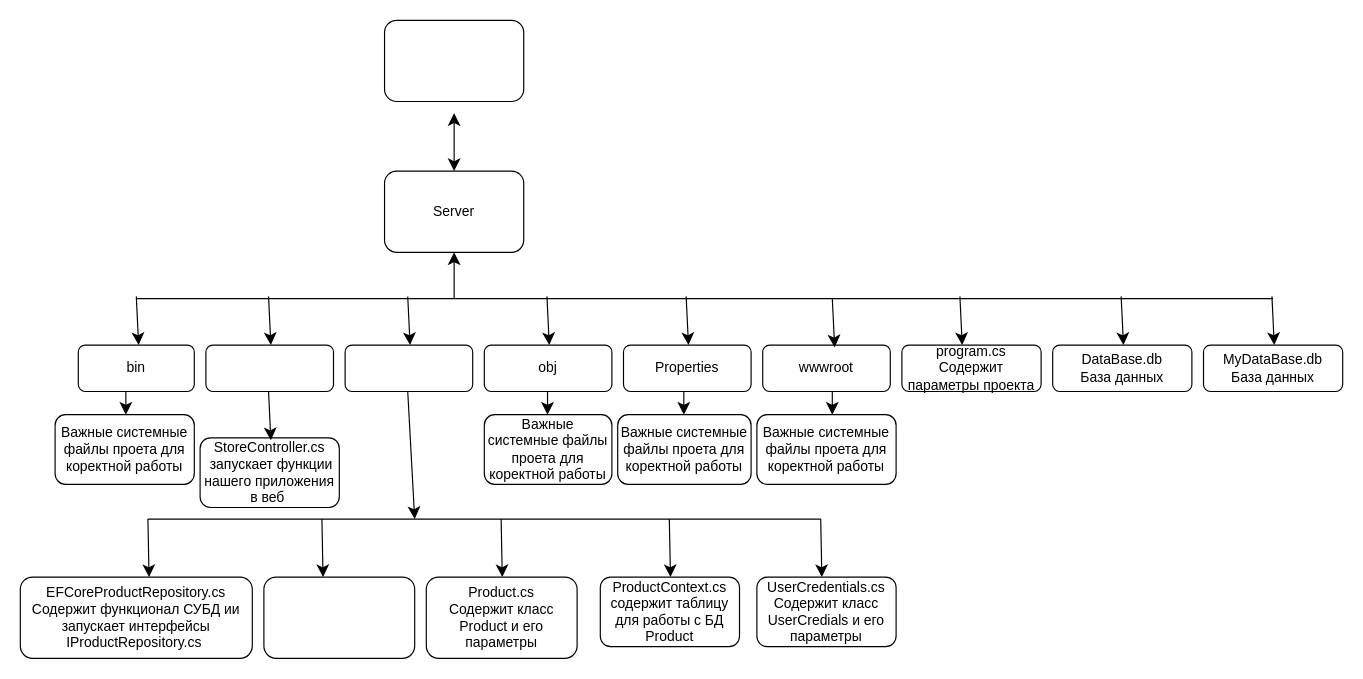
The diagram is 1363 pixels wide and 679 high, and some of its shapes have lost their labels. The shapes that lost their labels are listed below. From the top down, each one's centre as x and y in pixels, then its label:
At (453,60): "Client".
At (269,368): "Controllers".
At (408,368): "Model".
At (339,617): "IProductRepository.cs Содержит итерфейсы проекта".
